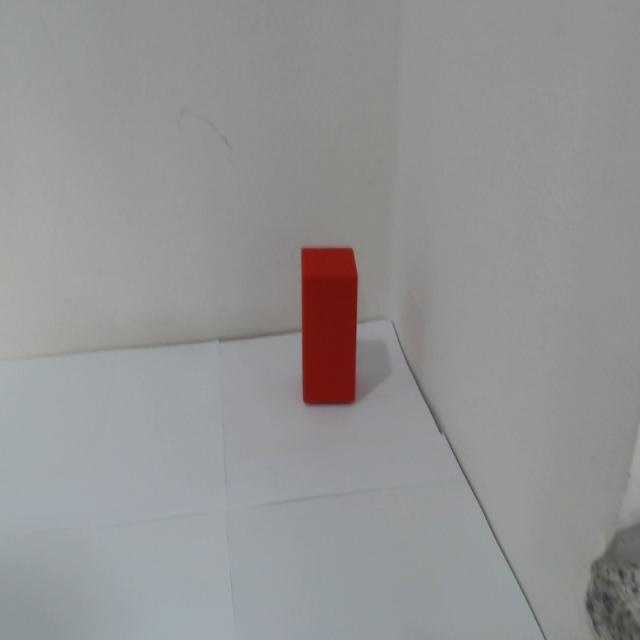cube: (299, 245, 361, 410)
